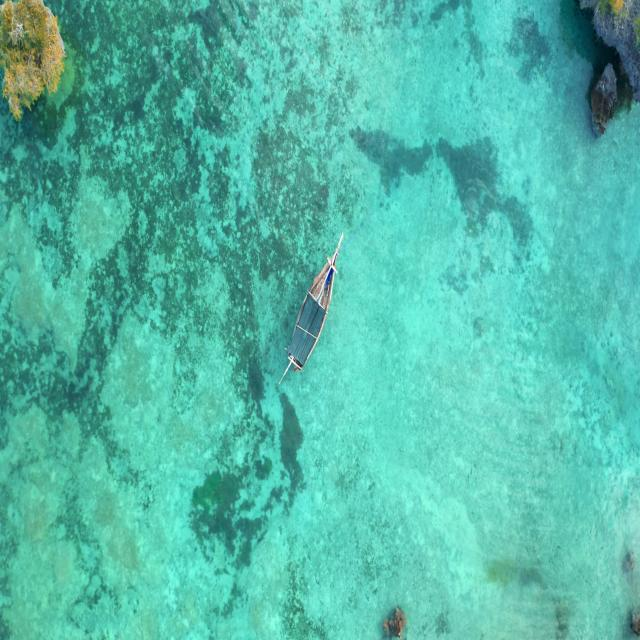ship: (276, 218, 350, 384)
